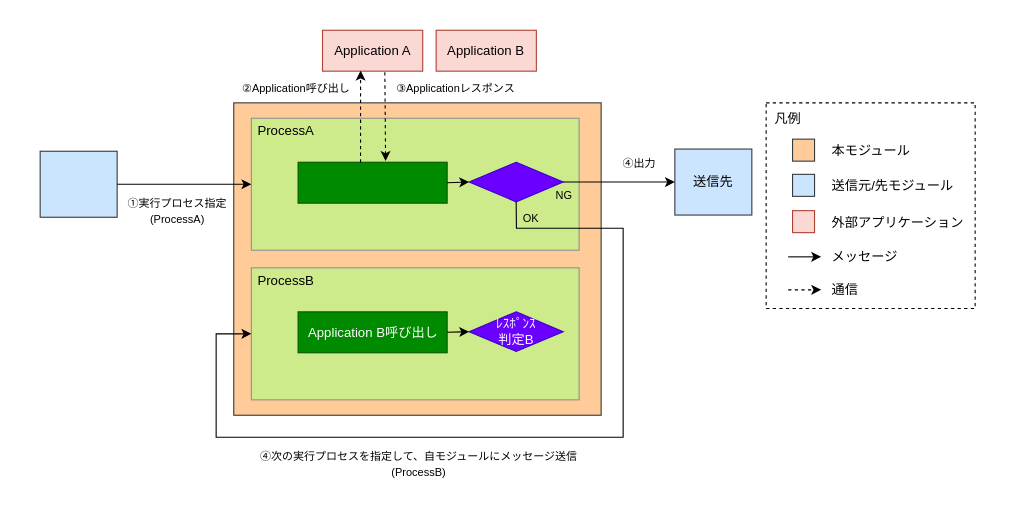
Some shapes in this 1015 by 521 pixel diagram are drawn without their labels. The centre of each missing label's shape, as x and y in pixels:
Application A呼び出し: (372,182)
送信元: (78,183)
ﾚｽﾎﾟﾝｽ 判定A: (515,181)
